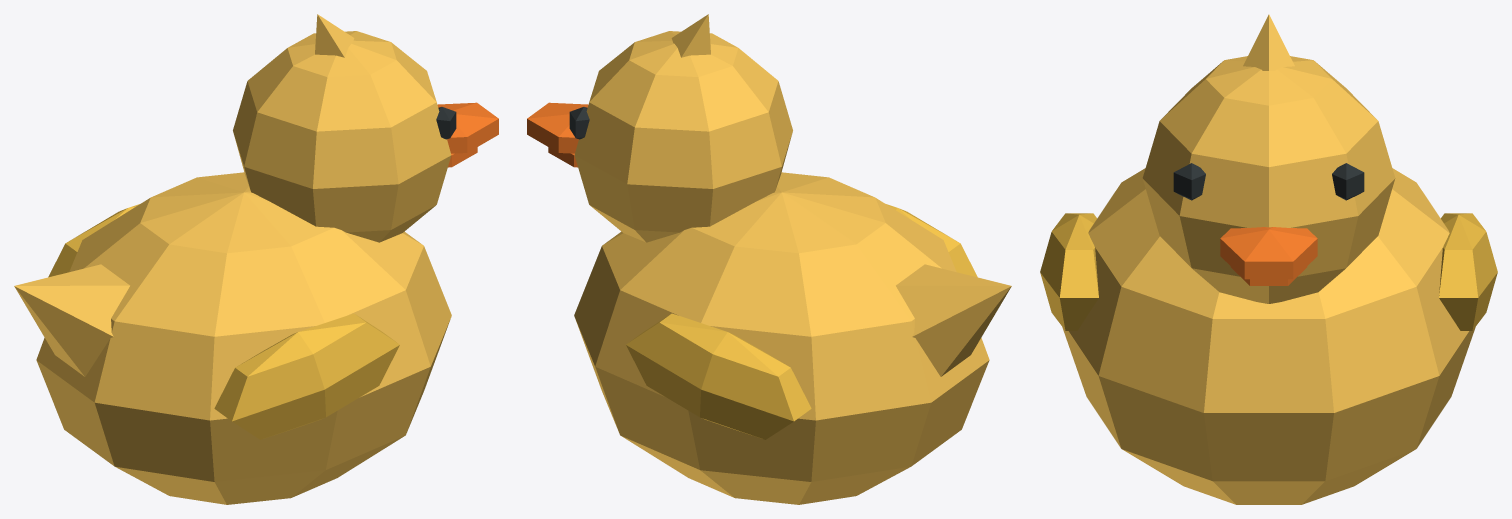
The model's file is rubberDuck.glb.
The picture shows the model from 3 angles, left to right: view 1: azimuth 30°, elevation 25°; view 2: azimuth 150°, elevation 25°; view 3: azimuth 270°, elevation 25°; orthographic projection. The views are drawn at different scales.
Visible parts, largest first — view 1: rubberDuck-m; view 2: rubberDuck-m; view 3: rubberDuck-m.
Part boxes in pixels (x1,y1,x2,y2): rubberDuck-m: (14,14,498,504); rubberDuck-m: (527,14,1011,504); rubberDuck-m: (1040,14,1497,504).
Bounding box in the file's own units: 0.8706 × 0.7918 × 0.652.
